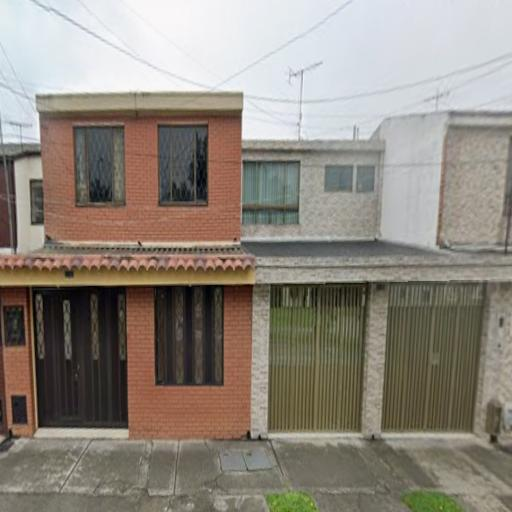fachada: (4, 77, 254, 448), (243, 120, 498, 452)
